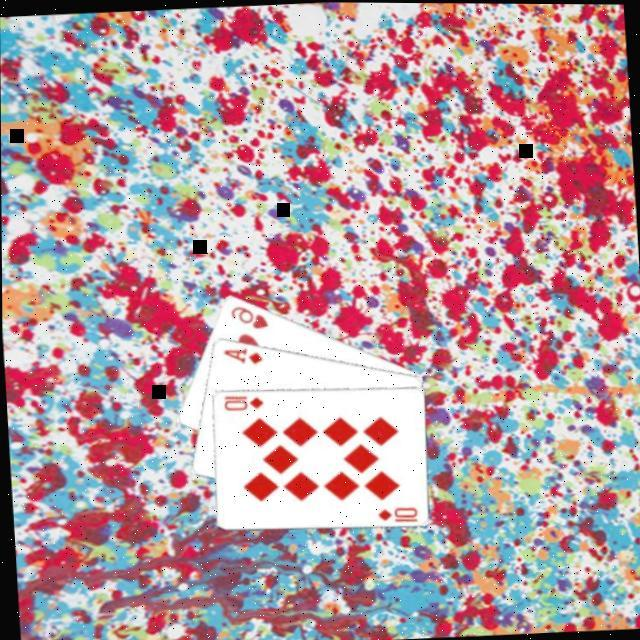10D: (374, 504, 422, 526), (221, 392, 268, 414)
6H: (228, 302, 272, 334)
AD: (220, 344, 266, 368)
